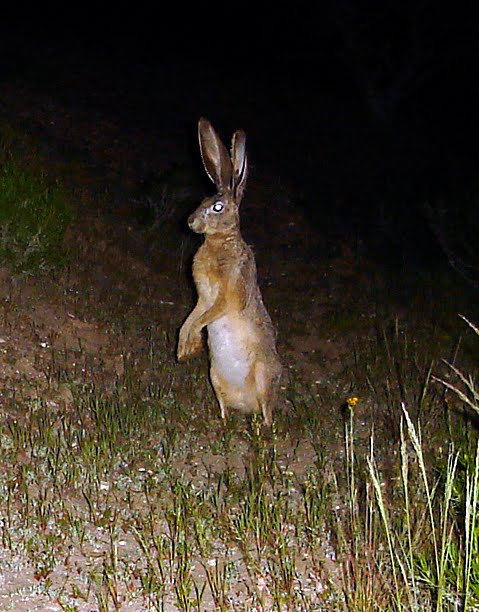bunny: (162, 103, 294, 441)
